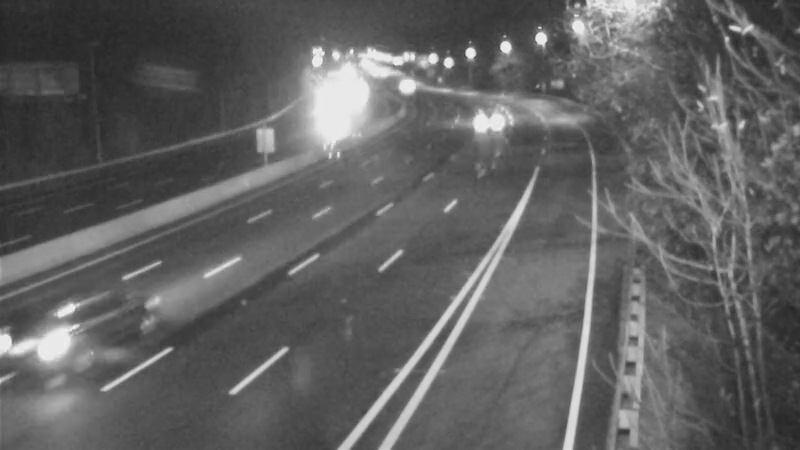vehicle: (34, 277, 144, 387), (379, 60, 429, 110), (454, 102, 504, 152)
